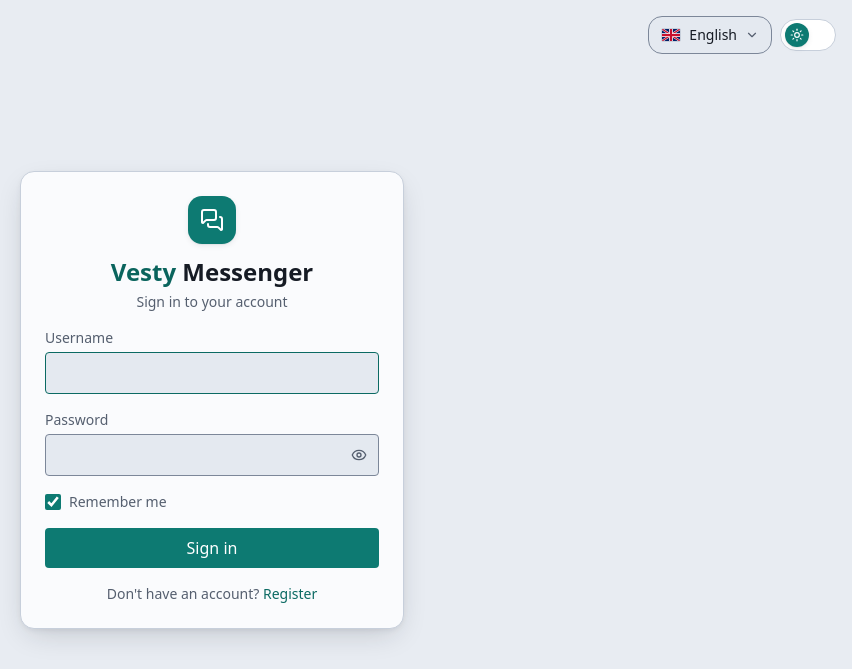
LoginPage › lets you switch the language before signing in
The width and height of the screenshot is (852, 669).
Click the button "English": (710, 35) left=648, top=16, right=772, bottom=54
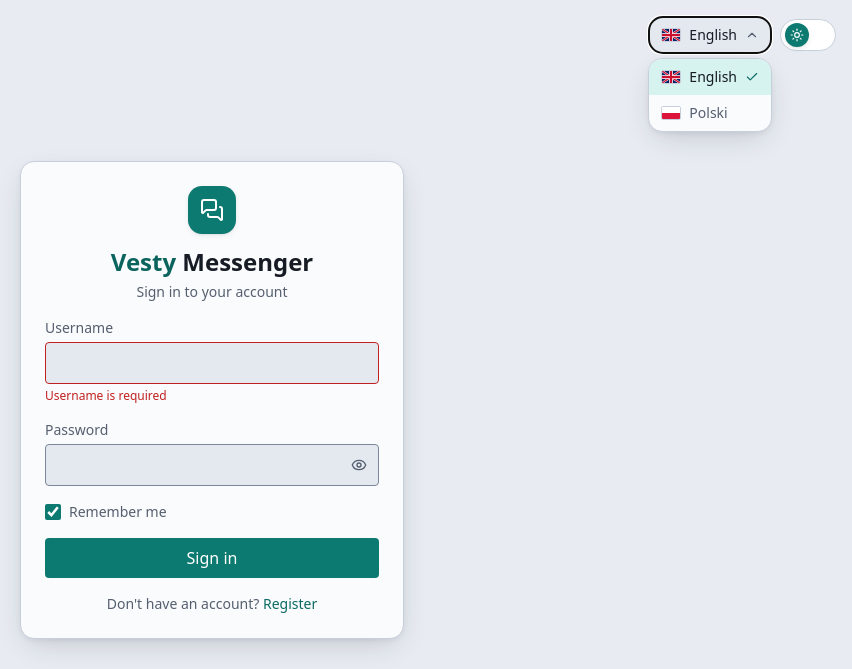
Click the option "Polski": (710, 113) left=649, top=95, right=771, bottom=131
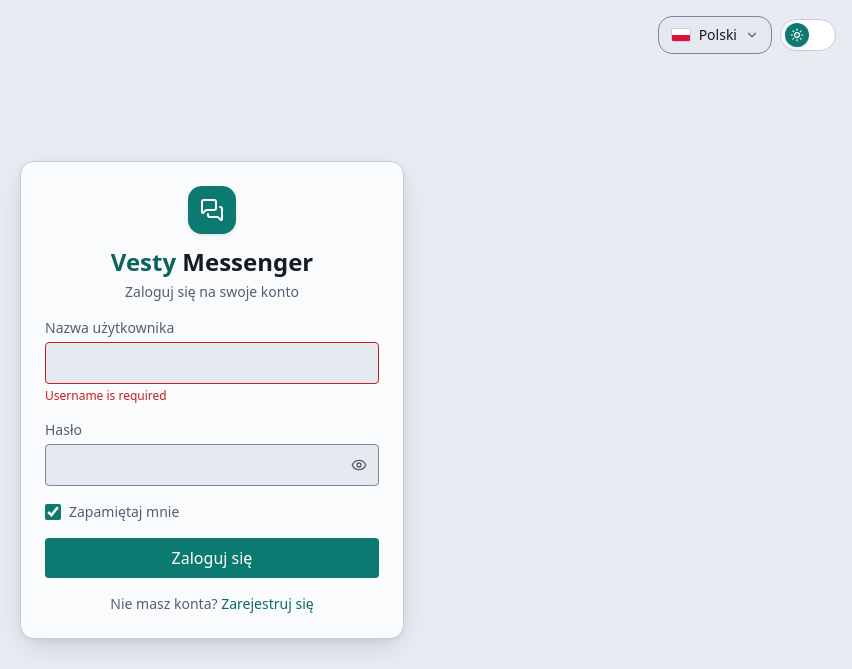
Expected: the text "Zaloguj się na swoje konto" is shown, left=125, top=282, right=299, bottom=301
